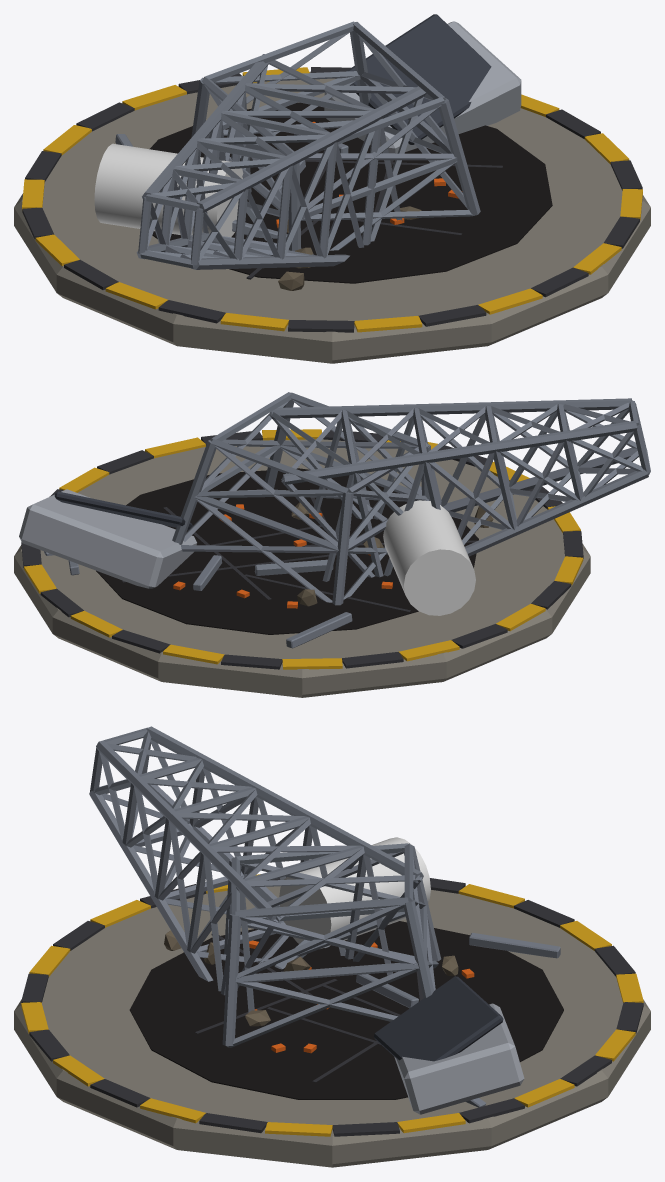
Rendered from wreck.fbx.
3 renders of one model, top to bottom at view 1: azimuth 30°, elevation 25°; view 2: azimuth 150°, elevation 25°; view 3: azimuth 270°, elevation 25°, orthographic. The views are drawn at different scales.
Visible parts, largest first — view 1: wreck; view 2: wreck; view 3: wreck.
Part boxes in pixels (bbox=[...]): wreck: bbox=[14, 14, 650, 363]; wreck: bbox=[14, 392, 650, 697]; wreck: bbox=[14, 726, 650, 1167].
Size of the model in its own units: 2.25 by 0.7074 by 2.2.
